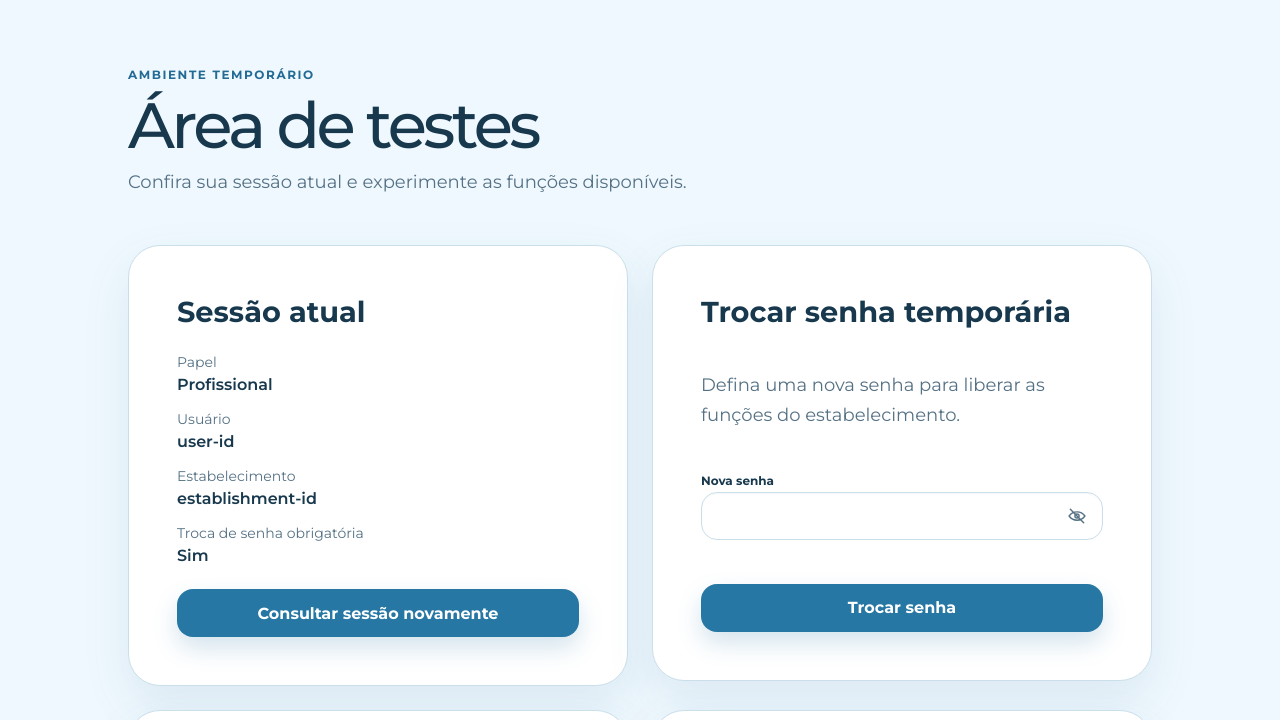
Test: mostra o erro password_unchanged no campo de senha
The width and height of the screenshot is (1280, 720).
Expected: the heading "Trocar senha temporária" is shown, left=701, top=294, right=1103, bottom=330
Type "nova-senha-segura" into the password field labelled "Nova senha" at (902, 516), box left=701, top=492, right=1103, bottom=540
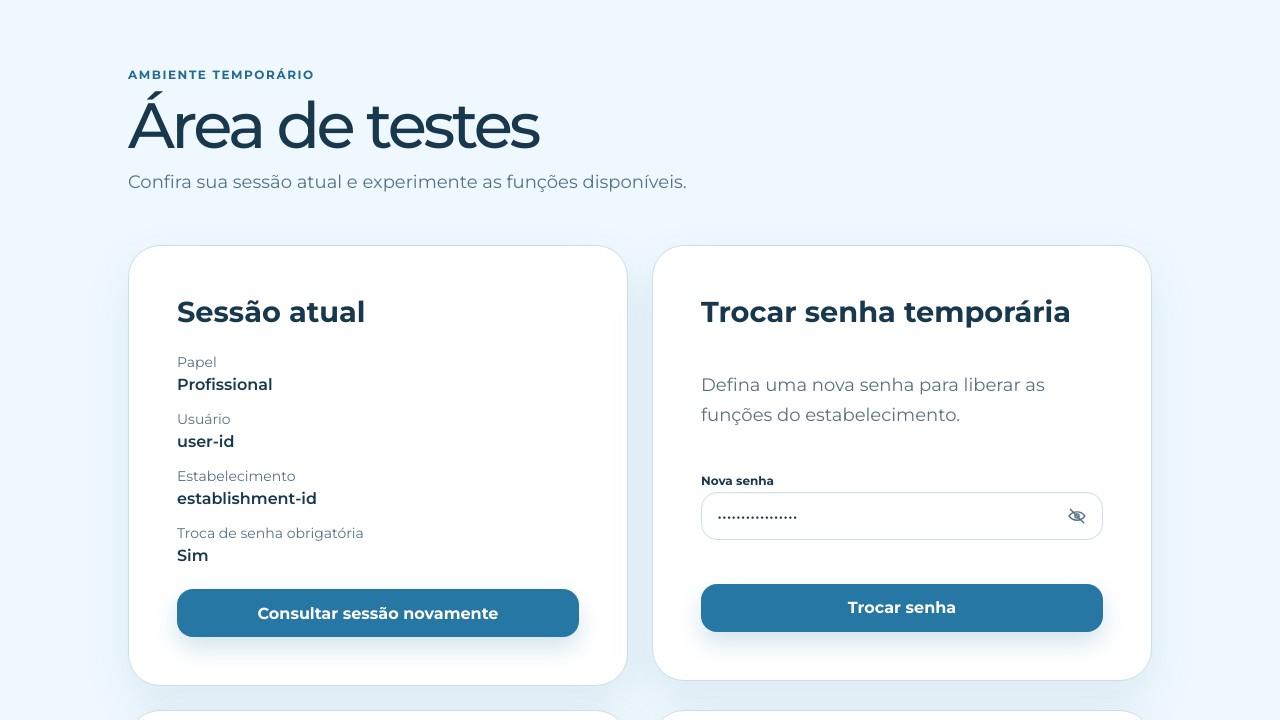
Click the button "Trocar senha" at (902, 608), box left=701, top=584, right=1103, bottom=632
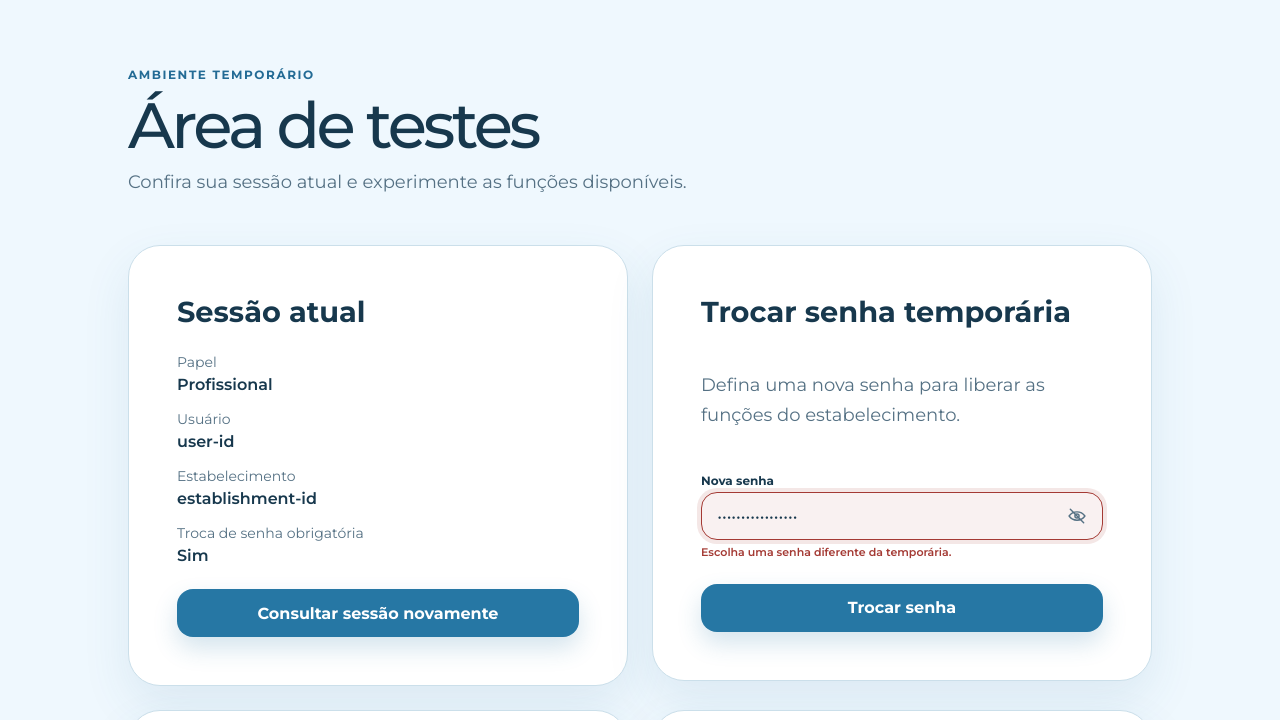
Now the text "Escolha uma senha diferente da temporária." is shown, box left=701, top=545, right=951, bottom=559
